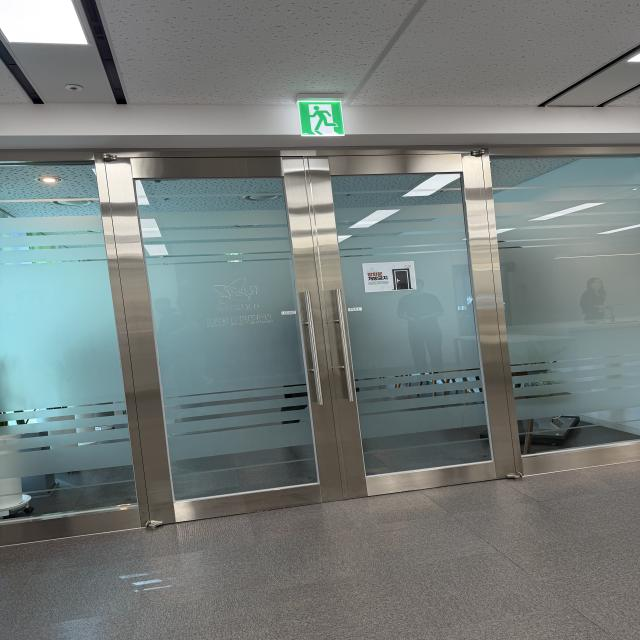front_door: (0, 147, 640, 545)
